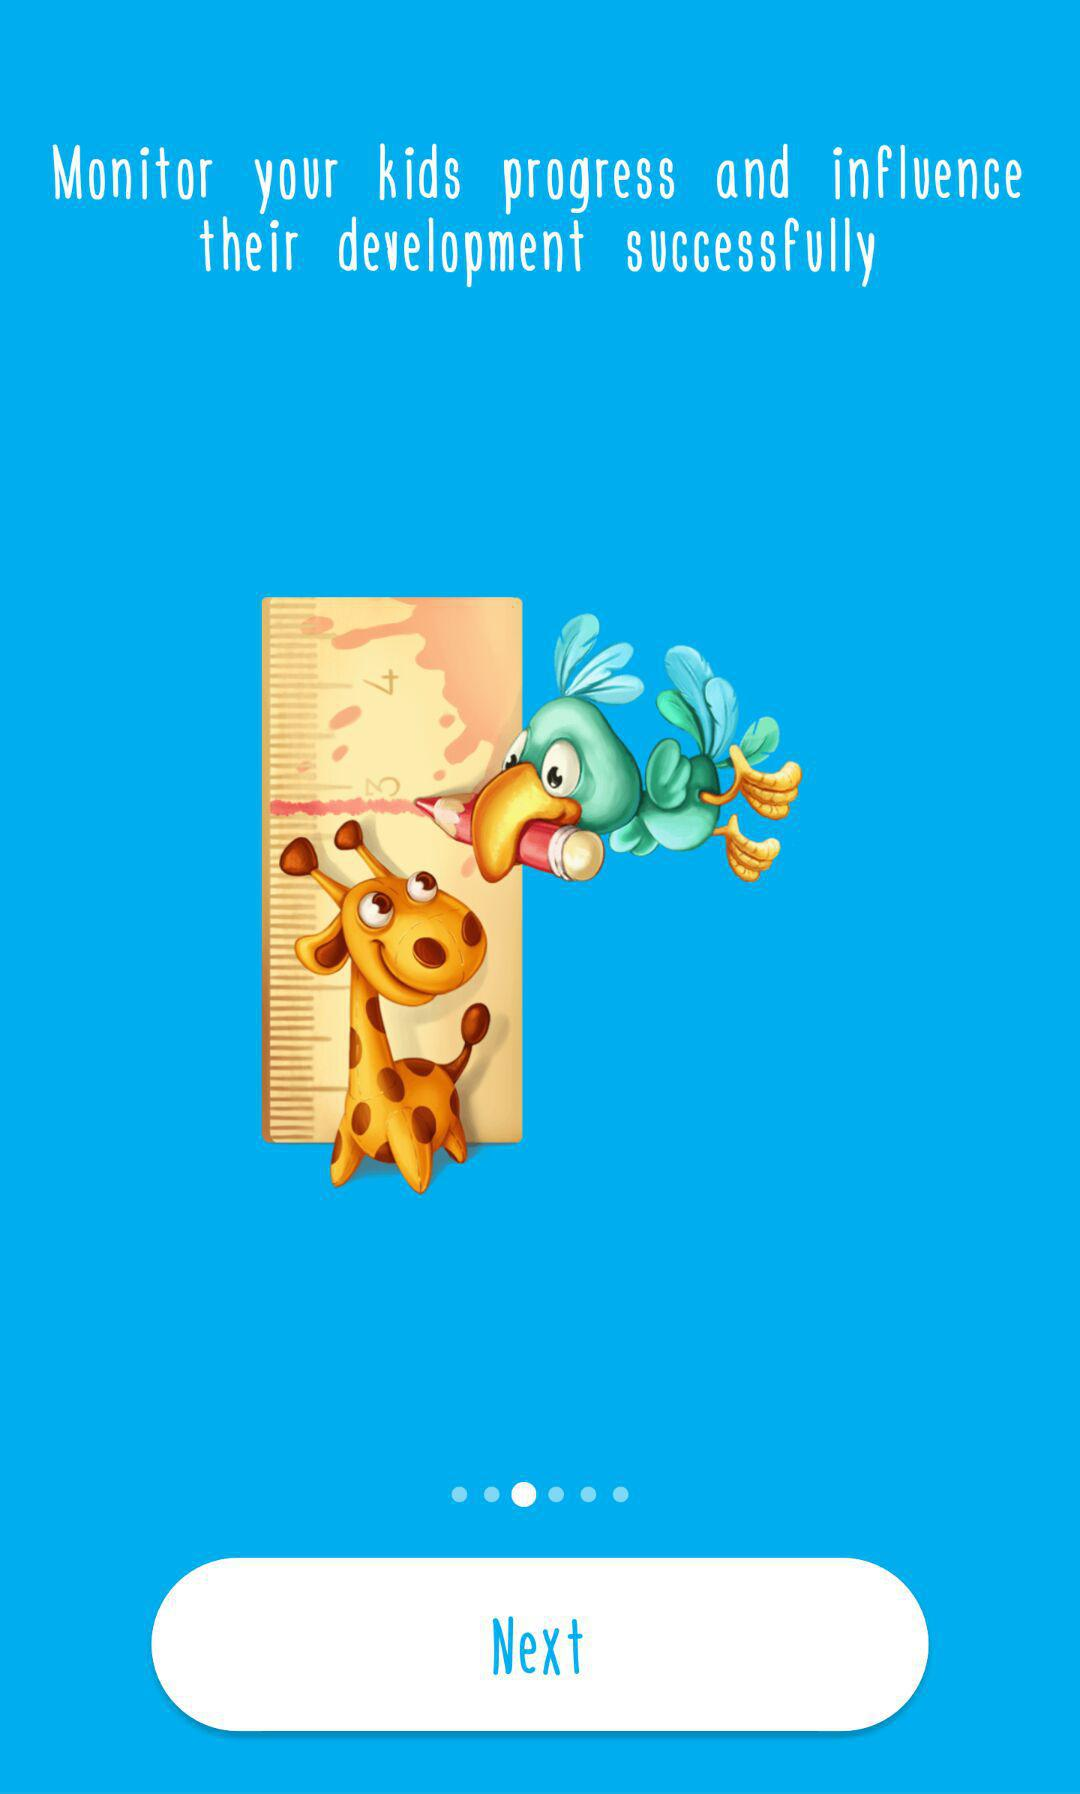Image: (261, 596, 802, 1194)
PageIndicator: (448, 1479, 632, 1510)
Text: (51, 144, 1022, 290)
TextButton: (150, 1557, 931, 1732)
